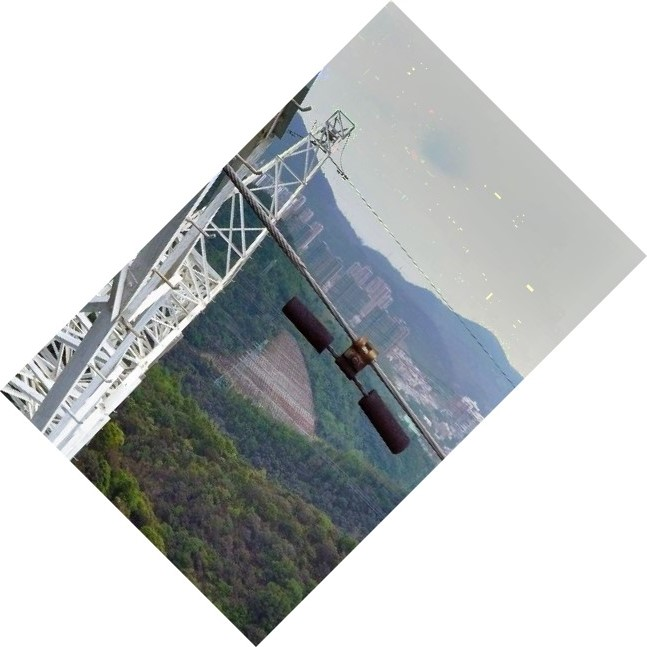Shockproof hammer: (279, 281, 417, 458)
